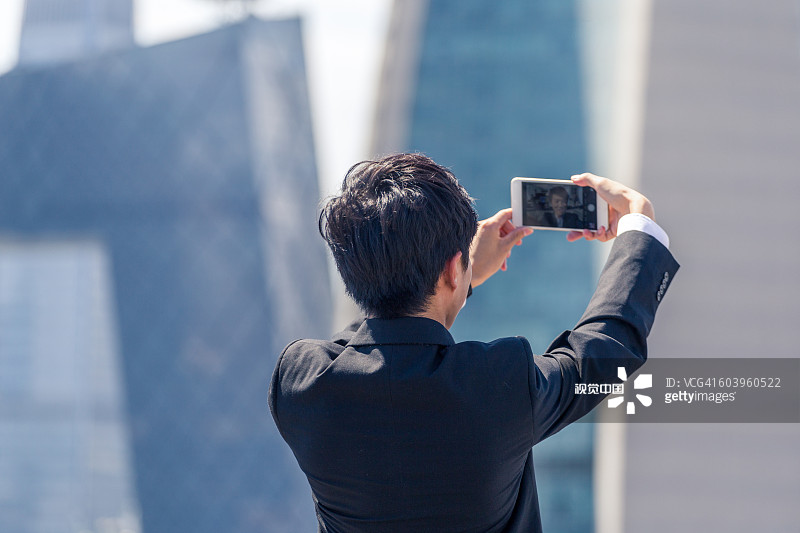taking photos: (549, 158, 685, 255), (467, 170, 559, 292)
